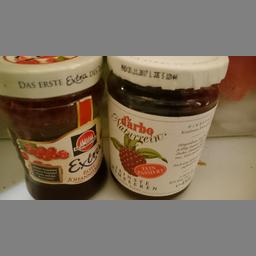jam: (104, 55, 229, 198), (0, 55, 110, 198)
